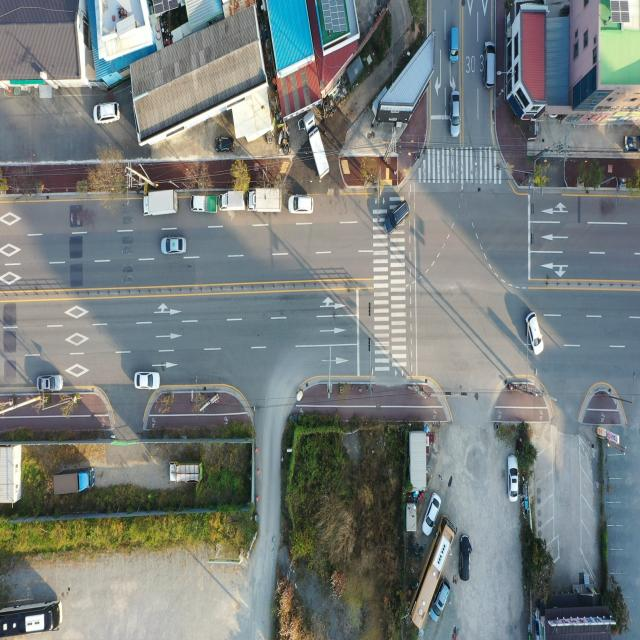car: (431, 576, 451, 626), (423, 488, 442, 538), (483, 38, 498, 88), (94, 101, 122, 125), (527, 312, 543, 354), (389, 202, 410, 232), (506, 457, 519, 502), (458, 534, 470, 580), (450, 90, 461, 139), (37, 374, 63, 394), (288, 195, 313, 215), (162, 238, 186, 256), (134, 373, 158, 391), (451, 28, 459, 62), (215, 137, 232, 153)
large_bus: (410, 517, 457, 633), (0, 595, 63, 640)
medium_truck: (51, 465, 96, 501), (304, 120, 329, 180), (144, 190, 180, 218), (249, 183, 284, 211)
small_truck: (169, 460, 205, 483), (188, 188, 217, 214), (218, 188, 246, 212)
